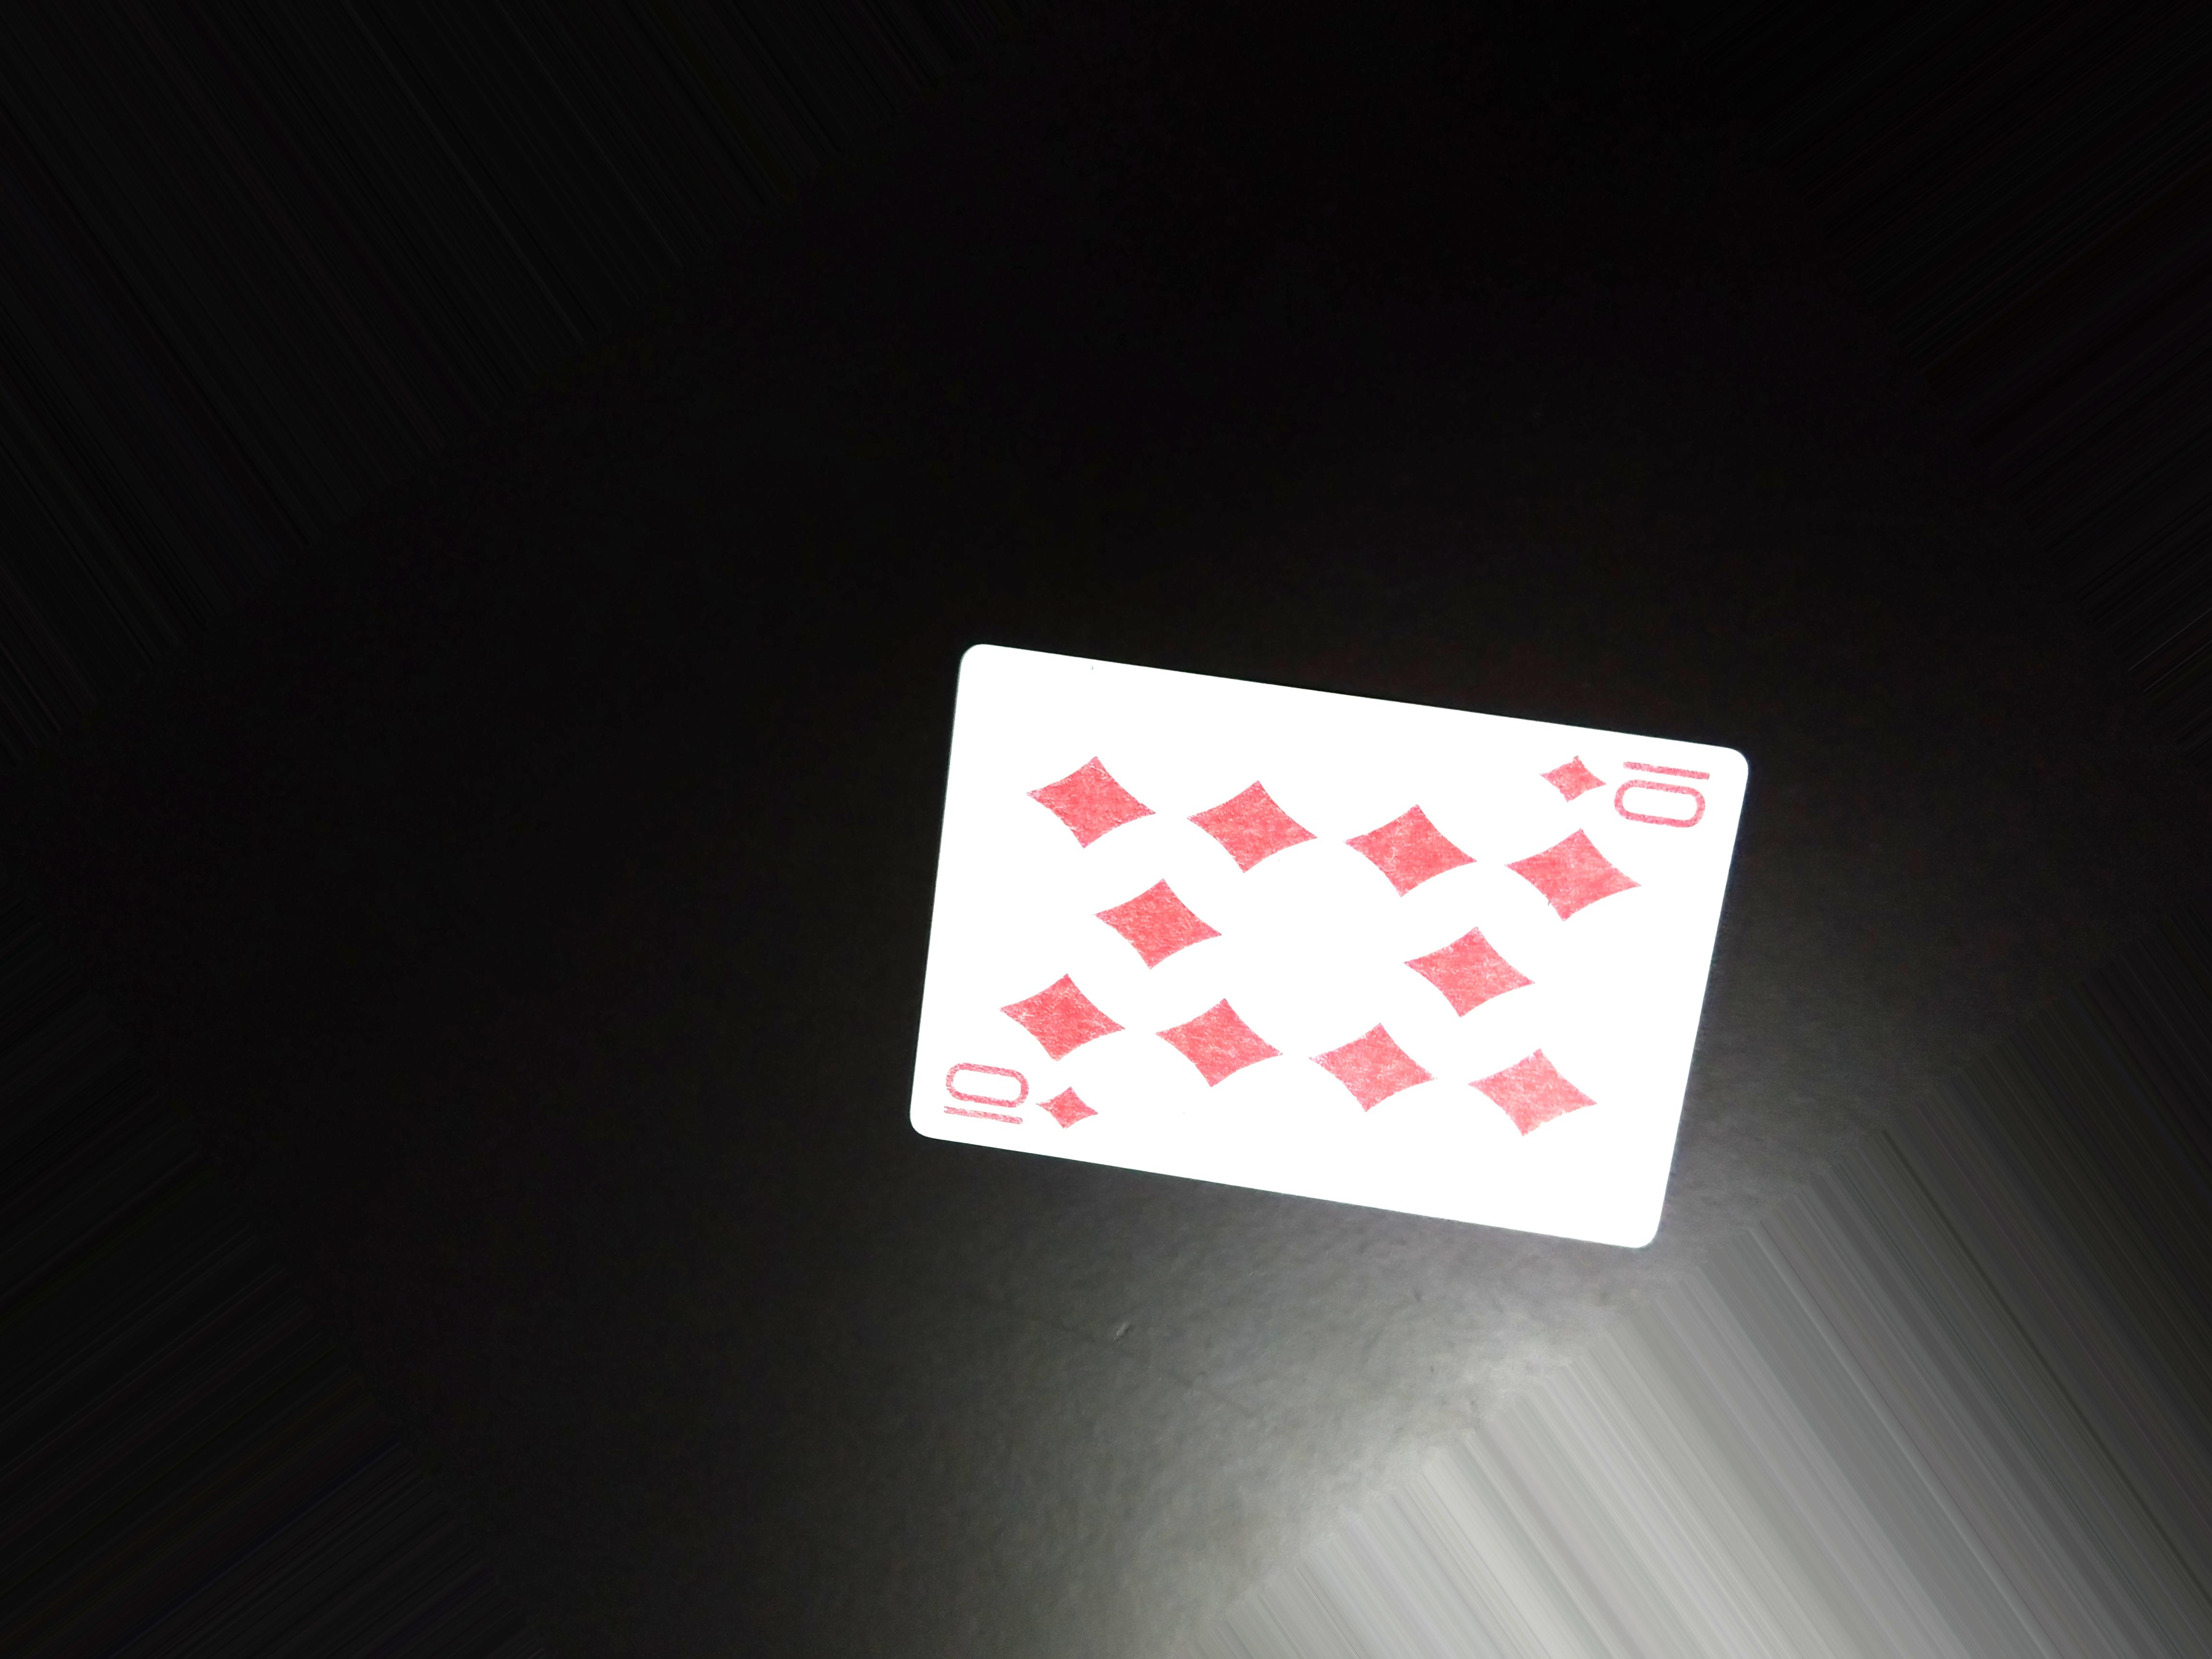10D: (930, 1046, 1097, 1159)
